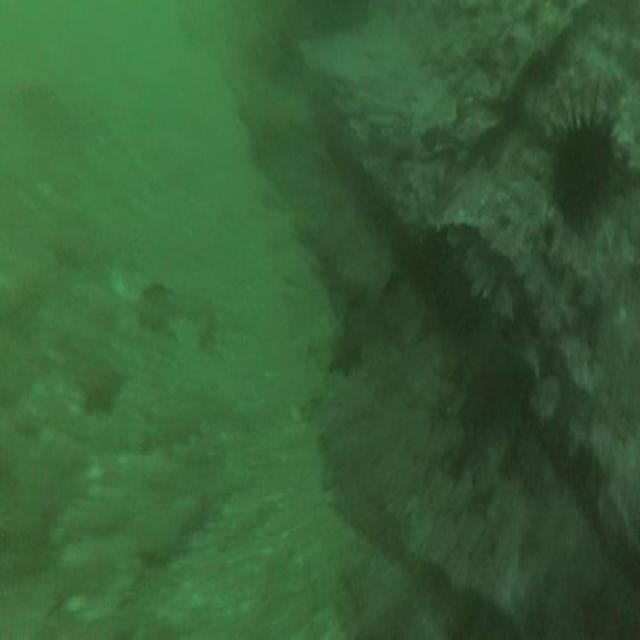echinus: (555, 118, 614, 223)
starfish: (456, 311, 531, 441), (83, 360, 120, 416), (329, 326, 355, 378)
